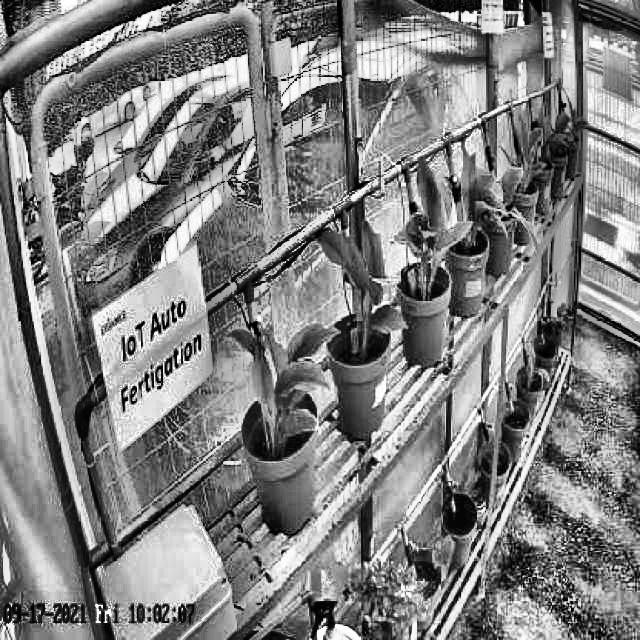plants: (228, 320, 326, 428), (318, 222, 402, 336), (398, 154, 460, 280), (460, 148, 503, 248)
